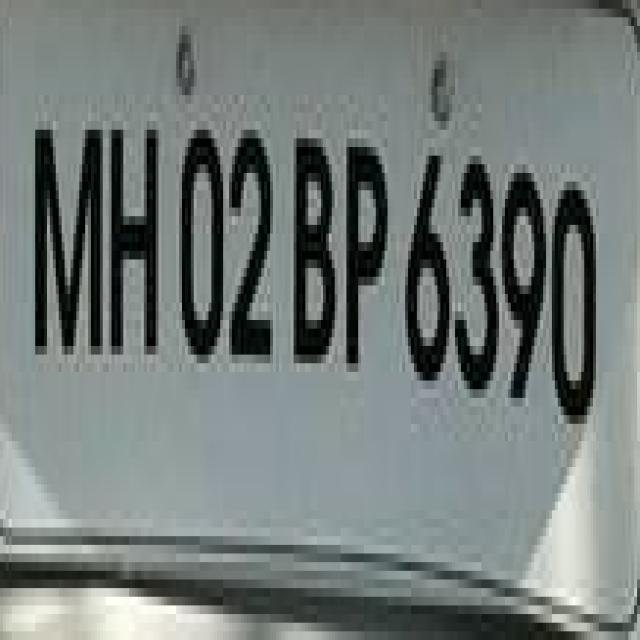license_plate: (0, 0, 622, 484)
